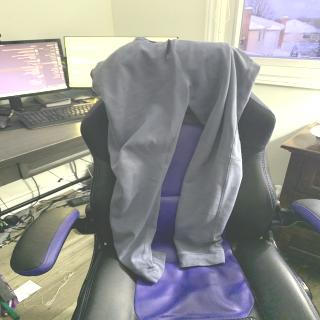Blue Sweatpants: (84, 37, 262, 283)
